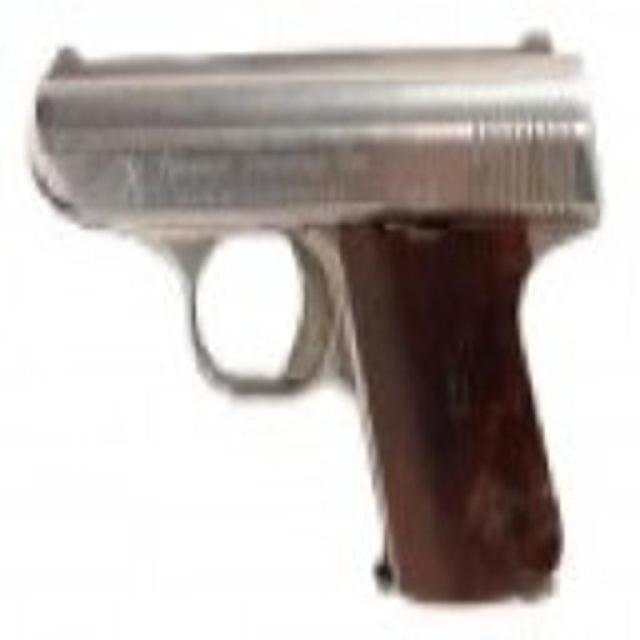pistol: (43, 26, 611, 607)
